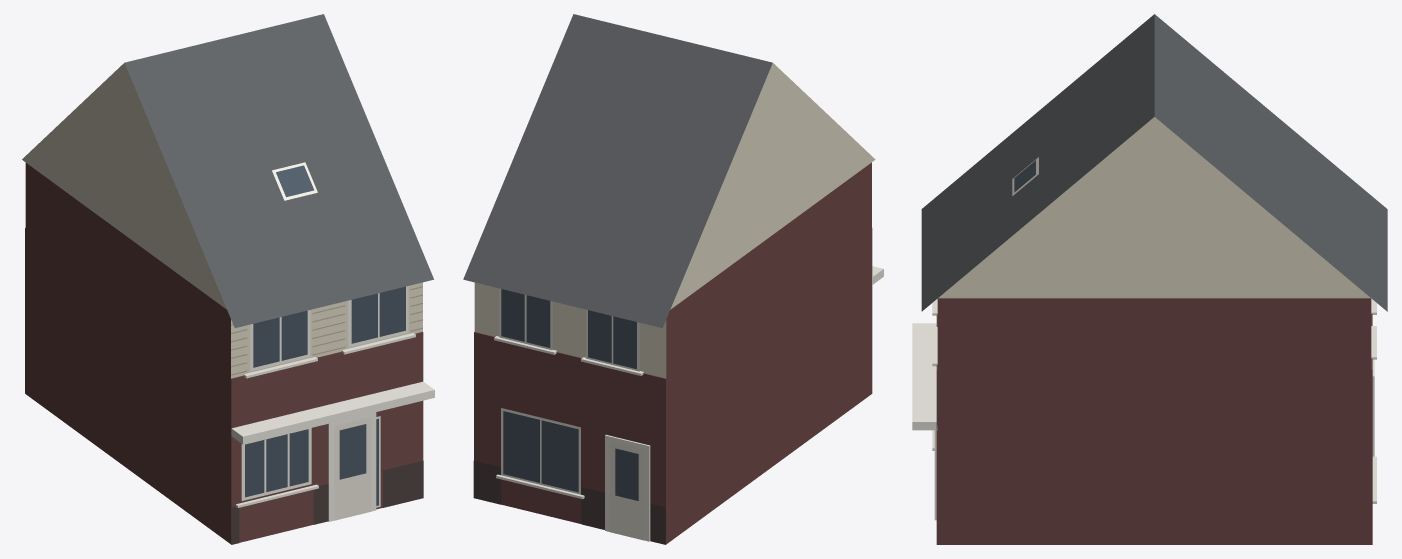
Rendered from th-gk-row__band__2__gable__long__solid__f0d0__mirror.glb.
The picture shows the model from 3 angles, left to right: view 1: azimuth 30°, elevation 25°; view 2: azimuth 150°, elevation 25°; view 3: azimuth 270°, elevation 25°; orthographic projection. The views are drawn at different scales.
Parts seen in each view (by area): view 1: th-gk-row__band__2__gable__long__solid__f0d0__mirror; view 2: th-gk-row__band__2__gable__long__solid__f0d0__mirror; view 3: th-gk-row__band__2__gable__long__solid__f0d0__mirror.
Part boxes in pixels (bbox=[...]): th-gk-row__band__2__gable__long__solid__f0d0__mirror: bbox=[22, 14, 434, 544]; th-gk-row__band__2__gable__long__solid__f0d0__mirror: bbox=[463, 14, 883, 544]; th-gk-row__band__2__gable__long__solid__f0d0__mirror: bbox=[912, 14, 1387, 544].
Bounding box in the file's own units: 5.29 × 10.32 × 10.33.
